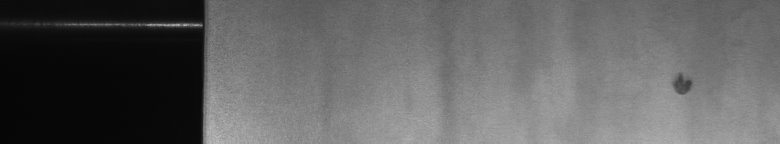fi: (668, 68, 698, 100)
